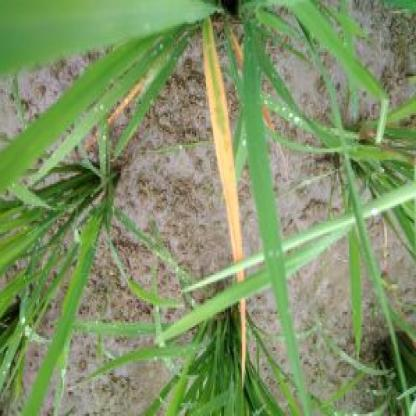Tungro: (190, 1, 252, 376)
